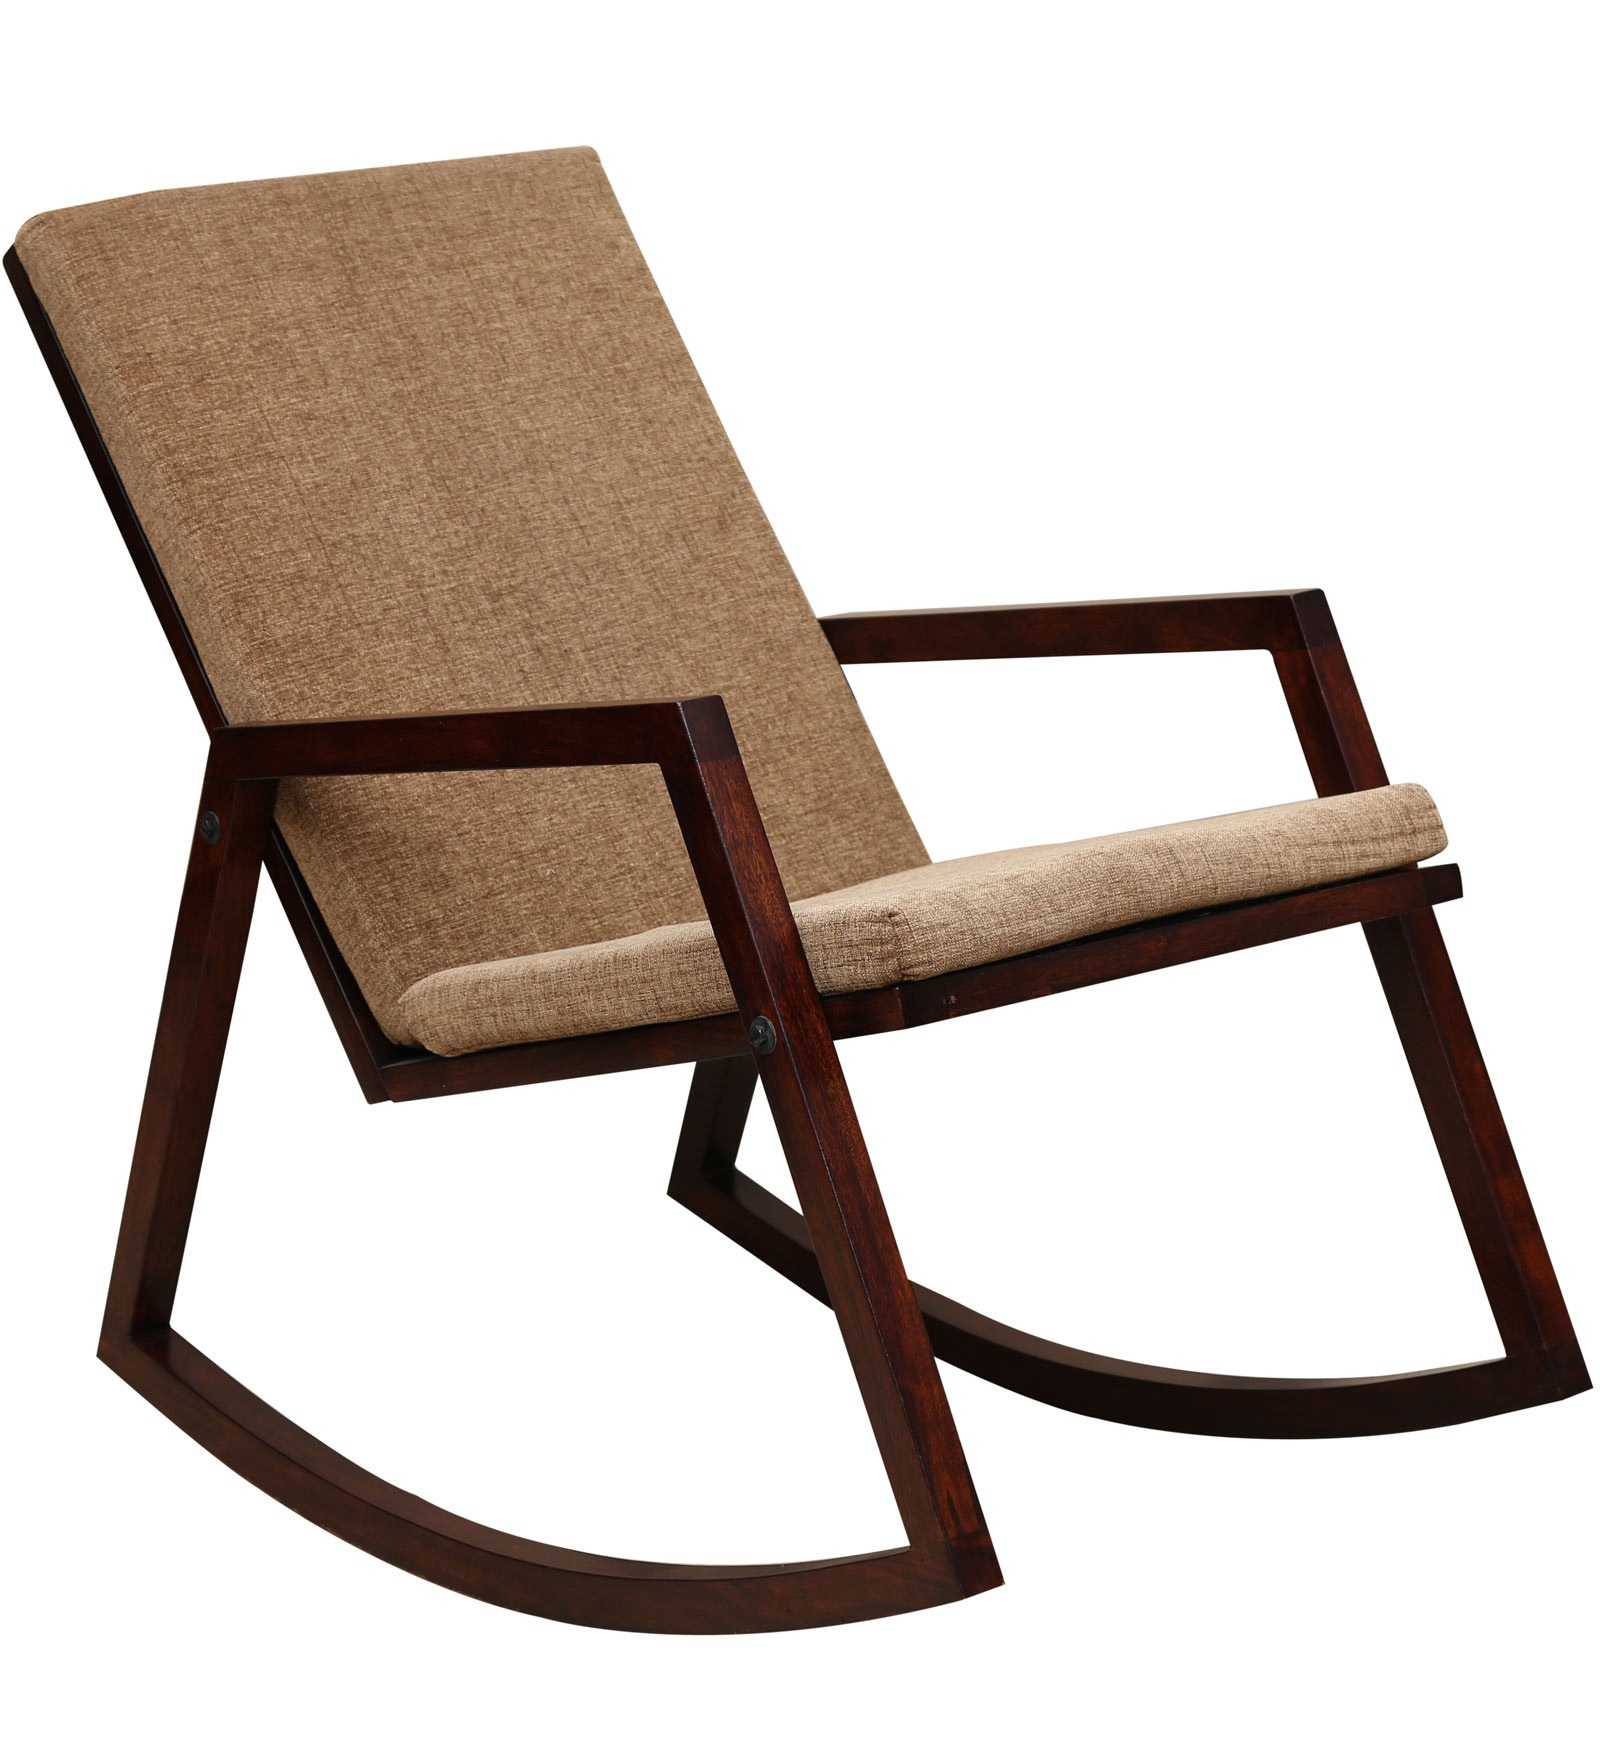Ace Rocking Chair in Brown Colour by HomeTown: (14, 117, 1600, 1640)
